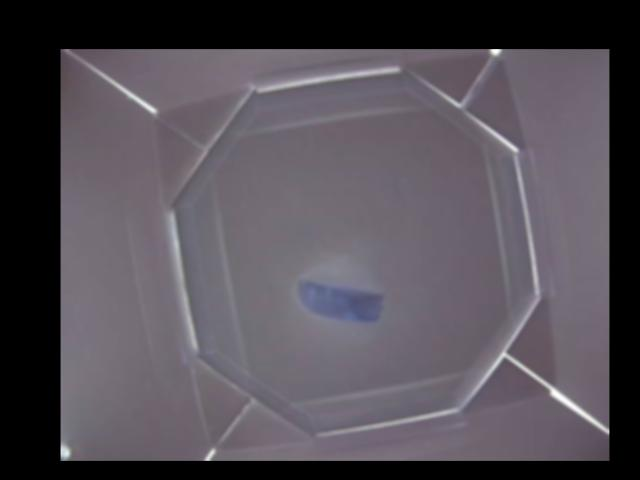Mooli: (298, 270, 382, 327)
